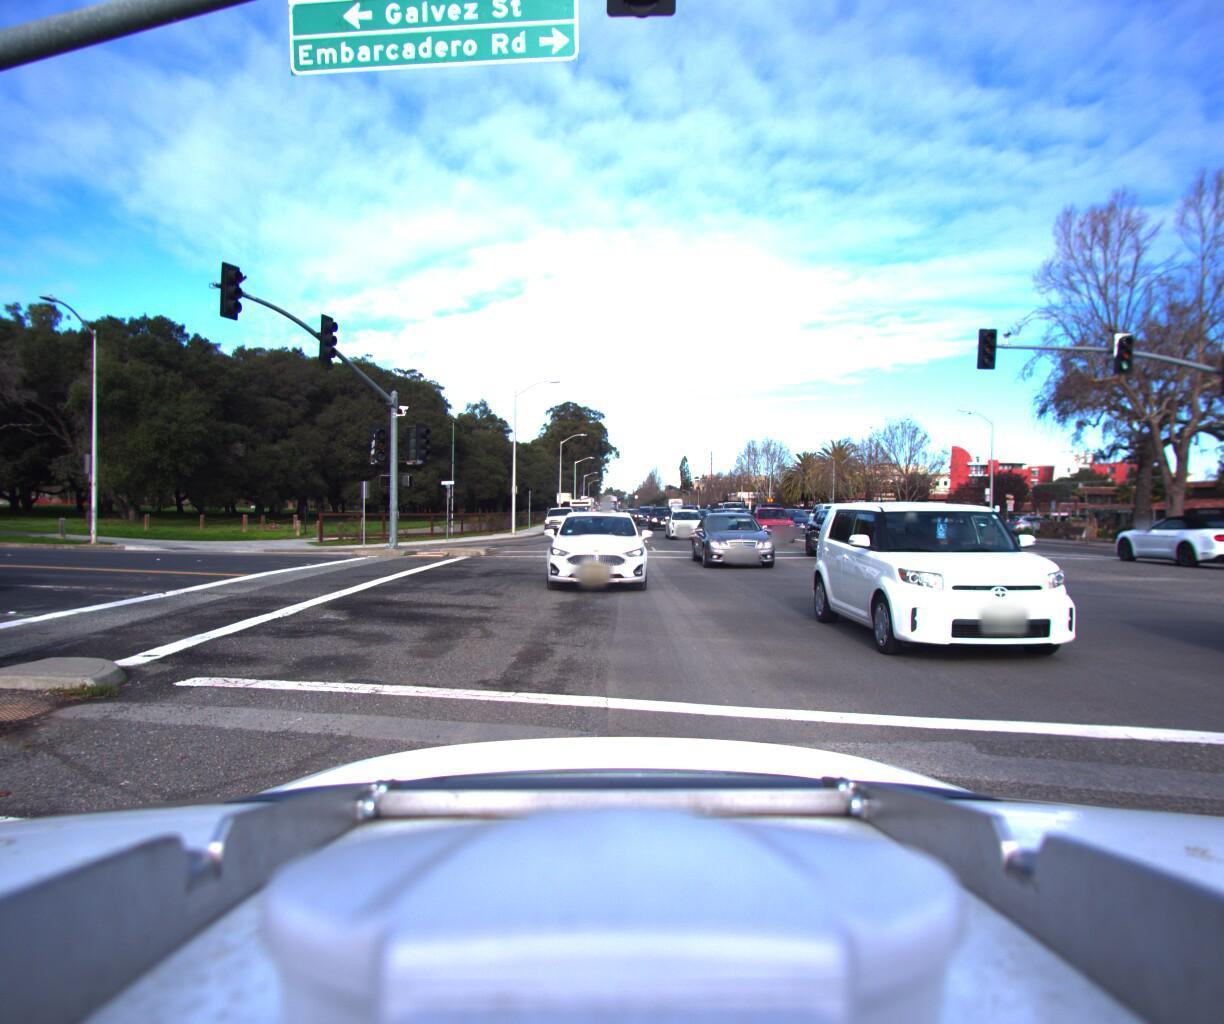car: (824, 496, 1195, 712), (542, 508, 649, 596), (1079, 505, 1224, 566), (802, 502, 901, 562), (692, 511, 787, 573), (798, 497, 866, 538), (743, 501, 799, 543), (660, 507, 705, 540), (764, 505, 816, 532), (538, 503, 577, 531), (585, 506, 620, 534), (642, 507, 671, 530)
truck: (705, 495, 750, 528)
